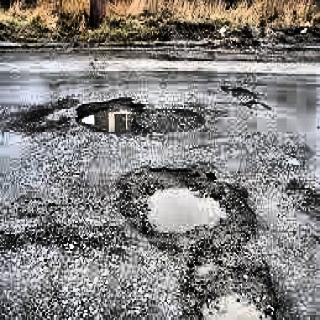pothole: (114, 163, 290, 320), (74, 94, 147, 137), (227, 84, 271, 114)
